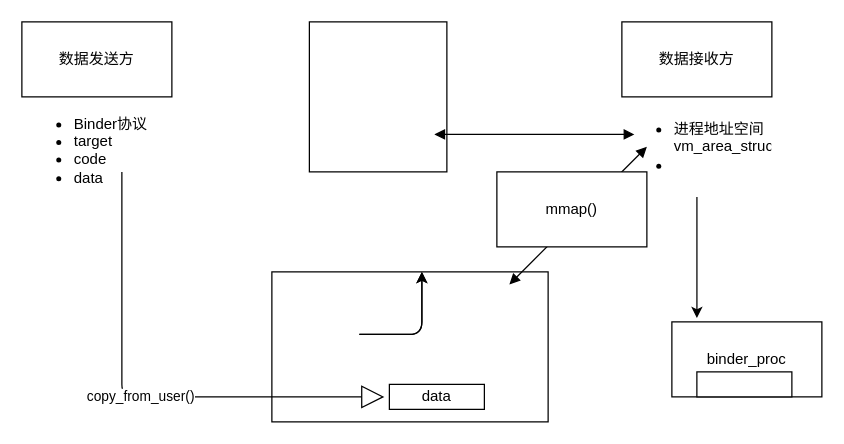
Some shapes in this 844 by 444 pixel diagram are drawn without their labels. The shapes that lost their labels are listed below. From the top down, each one's box as (x1, y1, x2, y2) in pixels, then its label:
(308, 21, 447, 172): 物理内存 binder map空间
(271, 271, 548, 422): 内核地址空间 binder_buffer
(696, 371, 792, 397): free_buffers
